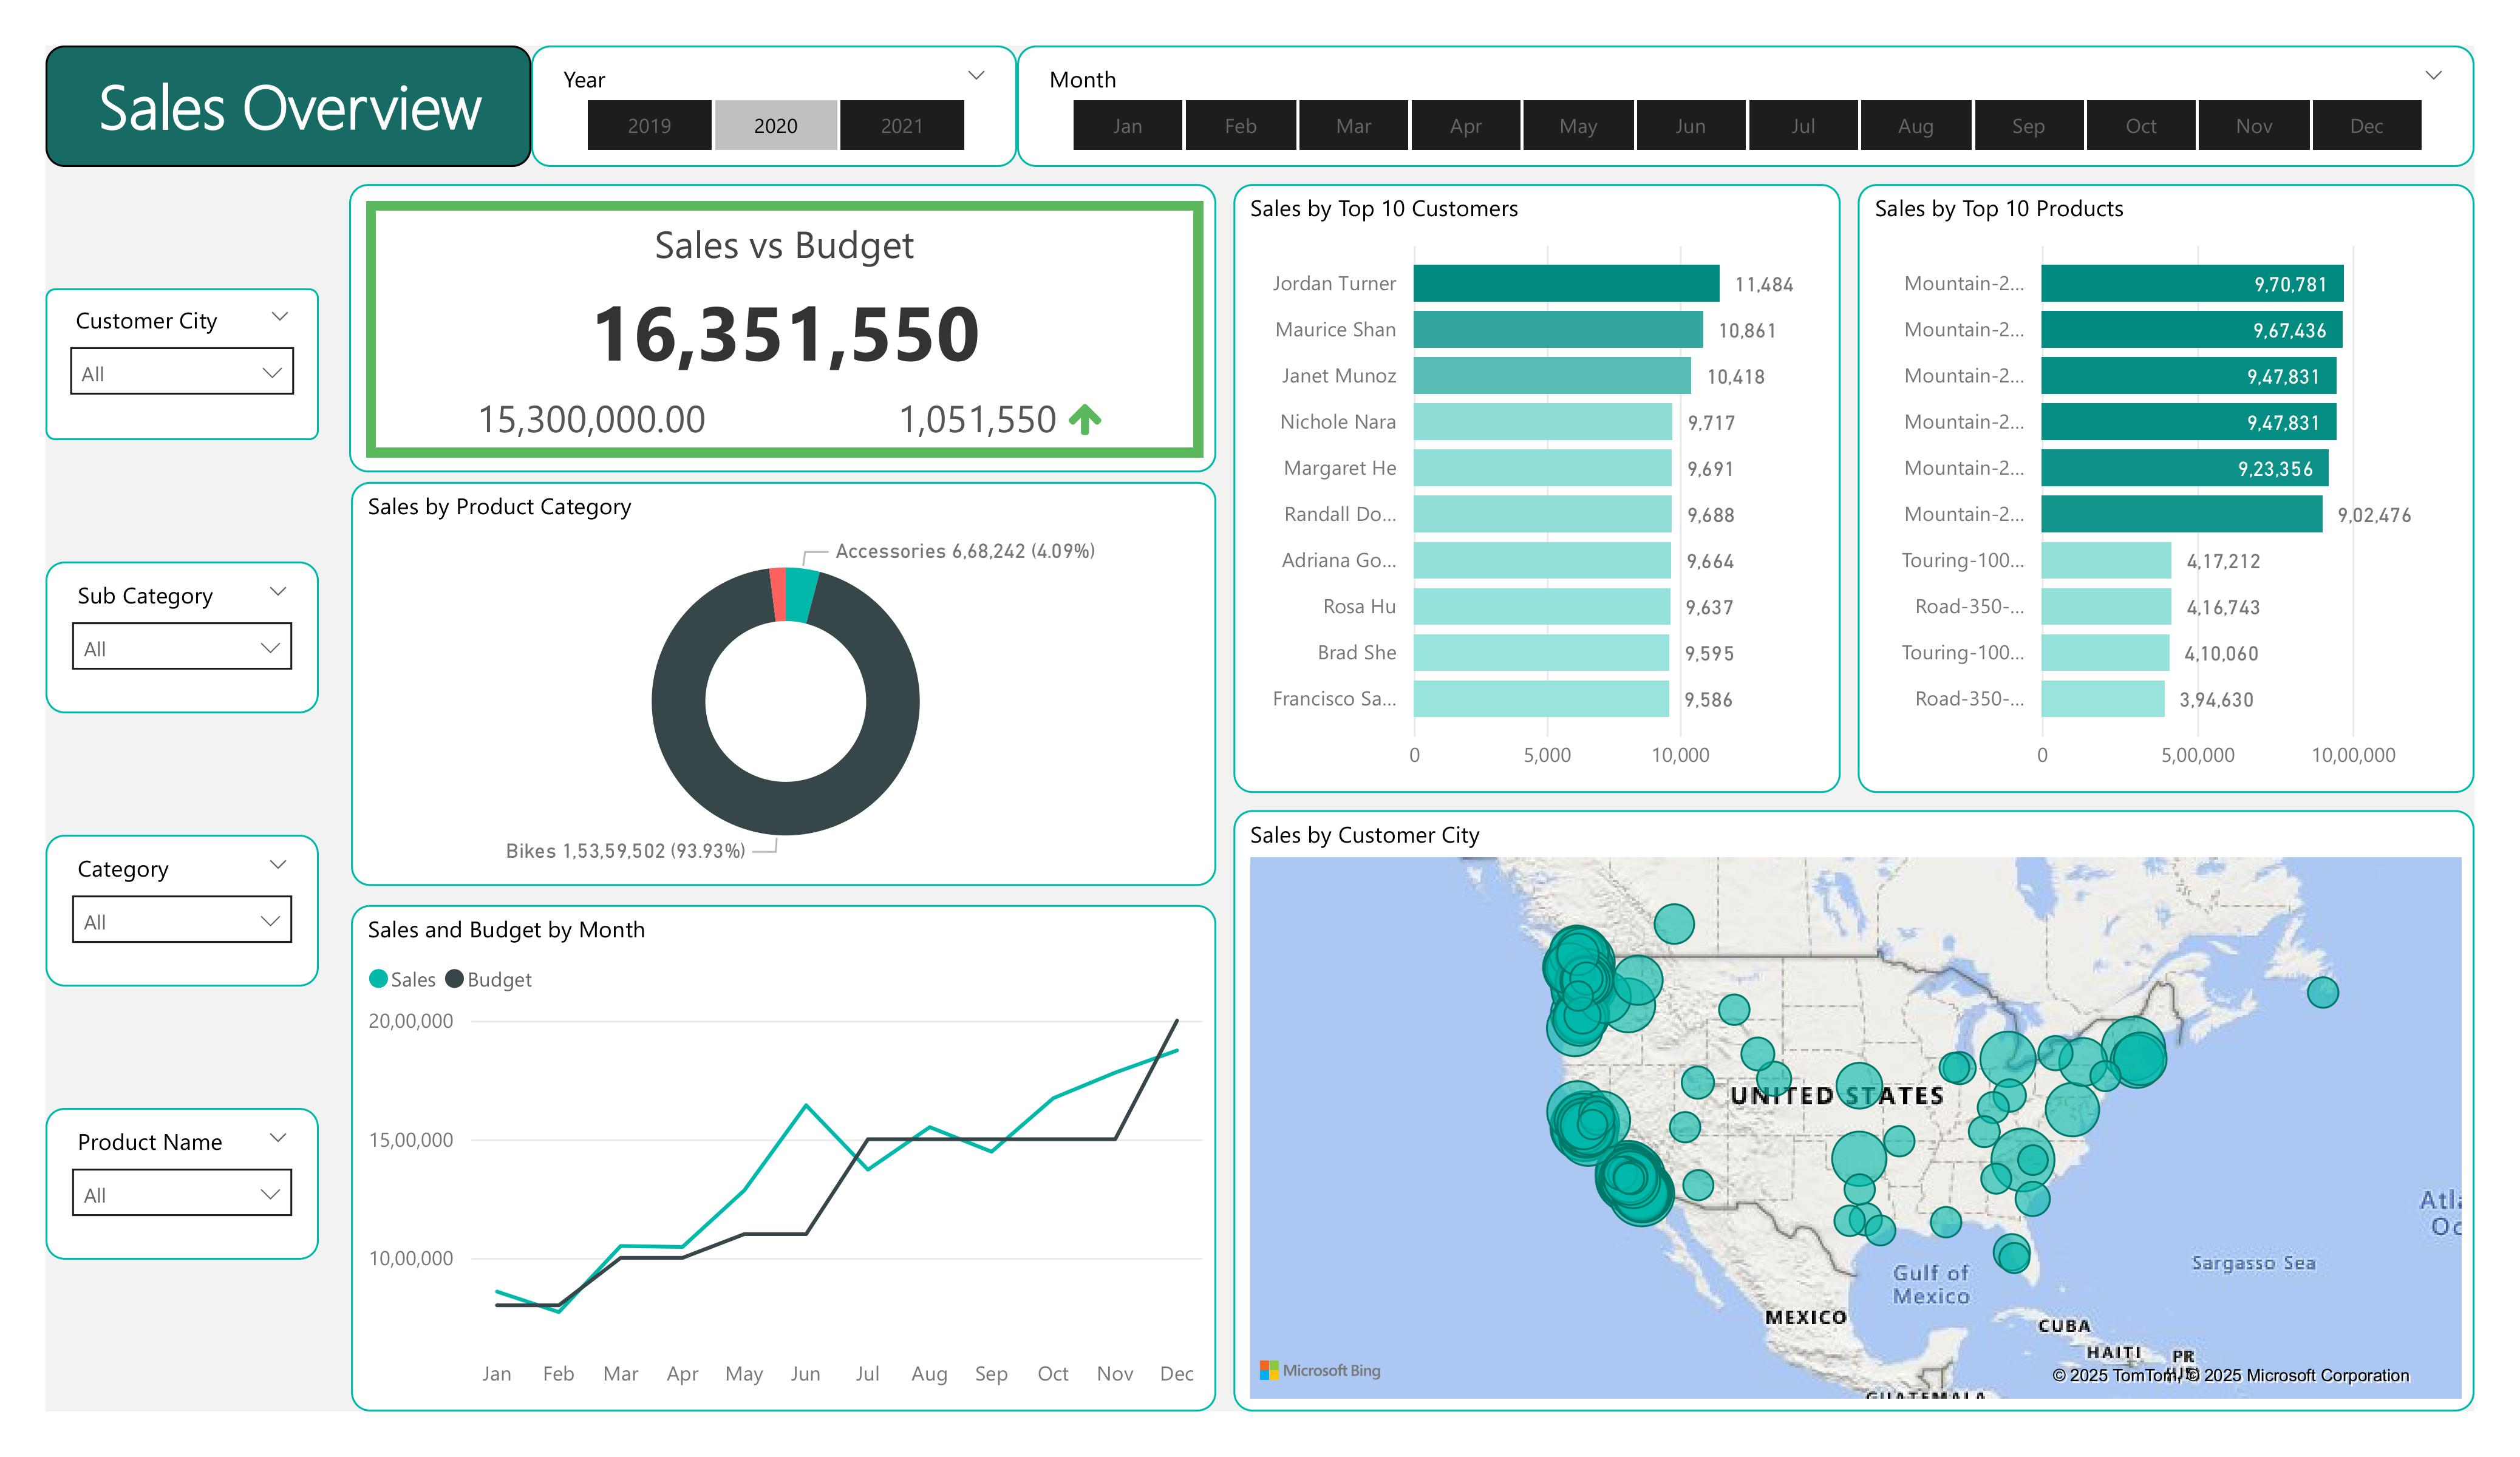

What the dashboard file says about the page in this screenshot:
{"tool":"powerbi","page":{"name":"Sales Overview","canvas":[1280,720],"ordinal":0},"visuals":[{"type":"textbox","box":[0,0,256,64],"z":0},{"type":"slicer","fields":{"Values":["DIM_Calendar.Year"]},"box":[256,0,256,64],"z":1000},{"type":"slicer","fields":{"Values":["DIM_Calendar.MonthShort"]},"box":[512,0,768,64],"z":2000},{"type":"slicer","fields":{"Values":["DIM_Customers.Customer City"]},"box":[0,128,144,80],"z":3000},{"type":"slicer","fields":{"Values":["DIM_Products.Product Category"]},"box":[0,416,144,80],"z":4000},{"type":"slicer","fields":{"Values":["DIM_Products.Product Name"]},"box":[0,560,144,80],"z":5000},{"type":"slicer","fields":{"Values":["DIM_Products.Sub Category"]},"box":[0,272,144,80],"z":6000},{"type":"barChart","title":"Sales by Top 10 Products","fields":{"Category":["DIM_Products.Product Name"],"Y":["Analysis Metrics.Sales"]},"box":[955.2,73,324.8,321.1],"z":7000},{"type":"lineChart","fields":{"Category":["DIM_Calendar.MonthShort"],"Y":["Analysis Metrics.Sales","Analysis Metrics.Budget"]},"box":[160.7,452.8,456.3,267.2],"z":8000},{"type":"barChart","title":"Sales by Top 10 Customers","fields":{"Category":["DIM_Customers.Full Name"],"Y":["Analysis Metrics.Sales"]},"box":[625.9,73,320.2,321.1],"z":9000},{"type":"donutChart","fields":{"Y":["Analysis Metrics.Sales"],"Series":["DIM_Products.Product Category"]},"box":[160.6,229.9,456.2,213.5],"z":10000},{"type":"map","fields":{"Category":["DIM_Customers.Customer City"],"Size":["Analysis Metrics.Sales"]},"box":[625.9,403.3,654.1,316.6],"z":11000},{"type":"BBED0A4D4D8D44CE93CF2DAFADEE466C","fields":{"actual":["Analysis Metrics.Sales"],"target2":["Analysis Metrics.Sales / Budget"],"target1":["Analysis Metrics.Budget"]},"box":[160.5,73.4,456.6,151.3],"z":12000}]}

Visuals, with their boxes on the page's 1280x720 design canvas (x1, y1, x2, y2). These are canvas units, not pixel positions in the 2520x1457 screenshot, which may show the page scaled, cropped or inside an application window:
textbox: pyautogui.locateOnScreen(0, 0, 256, 64)
slicer - DIM_Calendar.Year: pyautogui.locateOnScreen(256, 0, 512, 64)
slicer - DIM_Calendar.MonthShort: pyautogui.locateOnScreen(512, 0, 1280, 64)
slicer - DIM_Customers.Customer City: pyautogui.locateOnScreen(0, 128, 144, 208)
slicer - DIM_Products.Product Category: pyautogui.locateOnScreen(0, 416, 144, 496)
slicer - DIM_Products.Product Name: pyautogui.locateOnScreen(0, 560, 144, 640)
slicer - DIM_Products.Sub Category: pyautogui.locateOnScreen(0, 272, 144, 352)
"Sales by Top 10 Products" barChart: pyautogui.locateOnScreen(955, 73, 1280, 394)
lineChart - DIM_Calendar.MonthShort x Analysis Metrics.Sales: pyautogui.locateOnScreen(161, 453, 617, 720)
"Sales by Top 10 Customers" barChart: pyautogui.locateOnScreen(626, 73, 946, 394)
donutChart - Analysis Metrics.Sales x DIM_Products.Product Category: pyautogui.locateOnScreen(161, 230, 617, 443)
map - DIM_Customers.Customer City x Analysis Metrics.Sales: pyautogui.locateOnScreen(626, 403, 1280, 720)
BBED0A4D4D8D44CE93CF2DAFADEE466C - Analysis Metrics.Sales x Analysis Metrics.Sales / Budget: pyautogui.locateOnScreen(160, 73, 617, 225)
